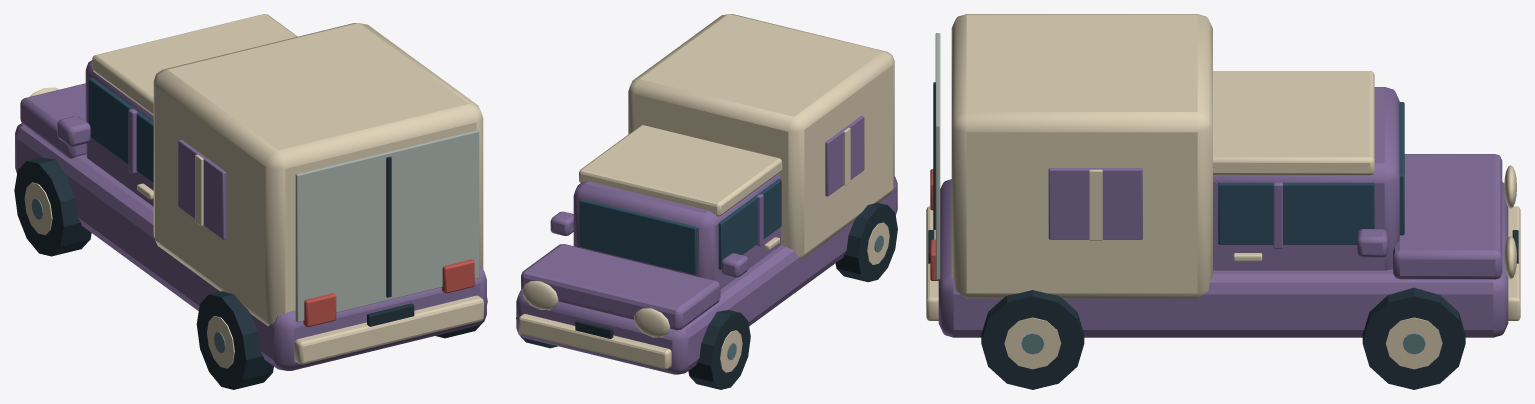
File: truck.glb
The picture shows the model from 3 angles, left to right: view 1: azimuth 30°, elevation 25°; view 2: azimuth 150°, elevation 25°; view 3: azimuth 270°, elevation 25°; orthographic projection. The views are drawn at different scales.
Visible parts, largest first — view 1: truck.001; view 2: truck.001; view 3: truck.001.
Part boxes in pixels (x1,y1,x2,y2): truck.001: (14,14,487,389); truck.001: (516,14,897,389); truck.001: (926,14,1520,389).
Bounding box in the file's own units: 1.95 × 1.92 × 3.91.
